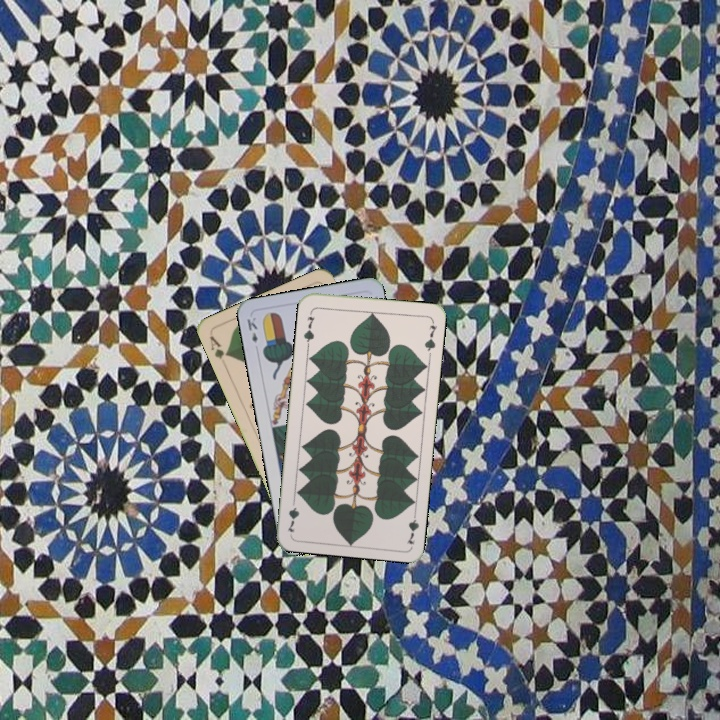EK: (243, 313, 260, 345)
G7: (403, 506, 421, 547), (299, 312, 317, 347)
GA: (205, 332, 232, 362)
